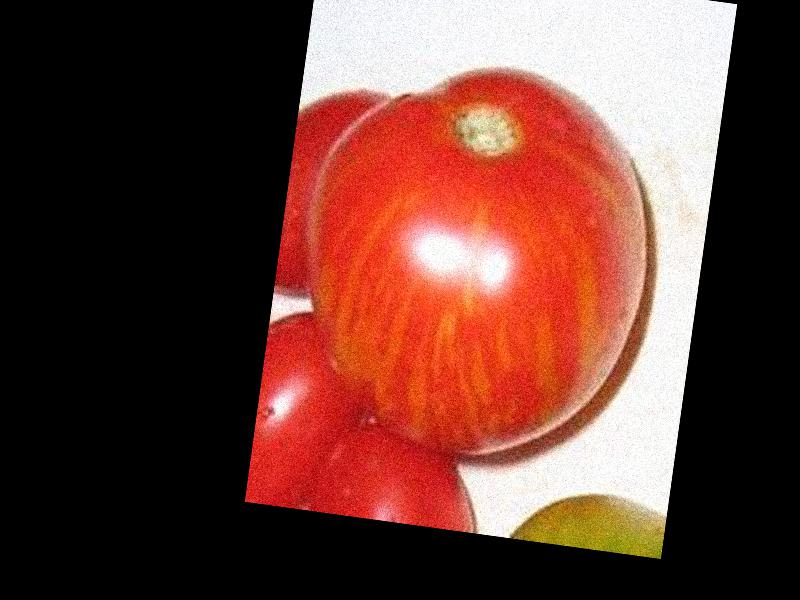Tomato: (277, 39, 671, 479)
